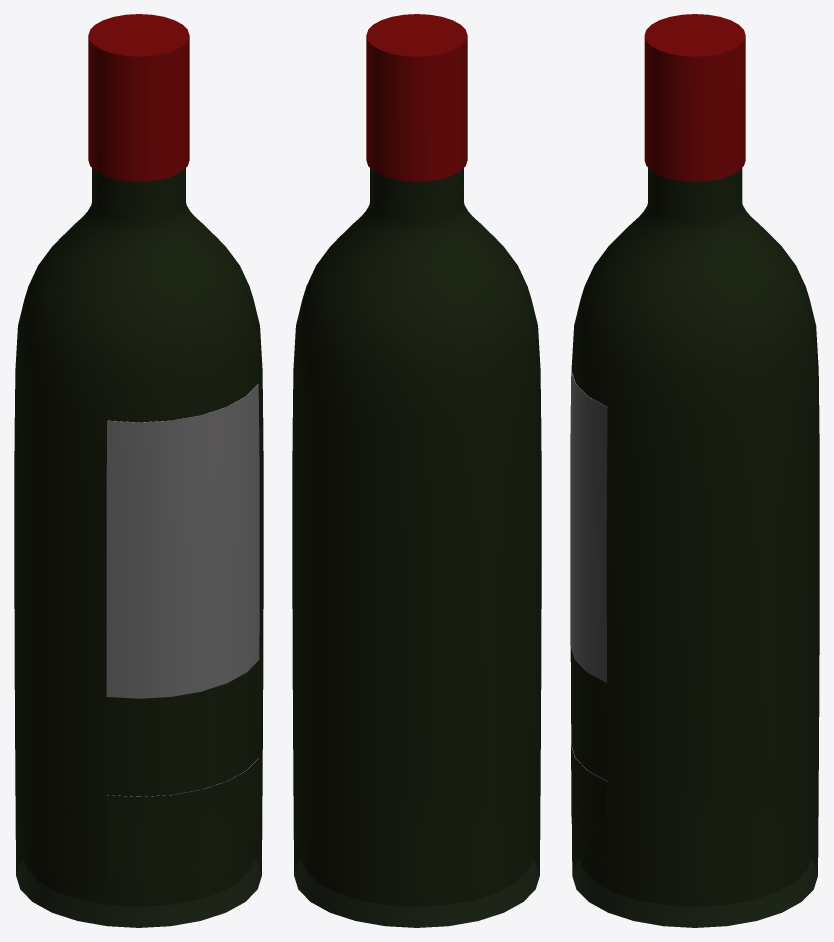
File: bottle_wine.glb
The picture shows the model from 3 angles, left to right: view 1: azimuth 30°, elevation 25°; view 2: azimuth 150°, elevation 25°; view 3: azimuth 270°, elevation 25°; orthographic projection.
Parts seen in each view (by area): view 1: Mesh_Botella_0, Mesh_Etiqueta_0, Mesh_Cosa de arriba_0; view 2: Mesh_Botella_0, Mesh_Cosa de arriba_0; view 3: Mesh_Botella_0, Mesh_Cosa de arriba_0, Mesh_Etiqueta_0.
Part boxes in pixels (box(x1,y1,x2,y2)): Mesh_Botella_0: box(14, 168, 263, 927); Mesh_Etiqueta_0: box(106, 384, 259, 698); Mesh_Cosa de arriba_0: box(88, 14, 189, 181); Mesh_Botella_0: box(292, 168, 541, 927); Mesh_Cosa de arriba_0: box(366, 14, 467, 181); Mesh_Botella_0: box(570, 168, 819, 927); Mesh_Cosa de arriba_0: box(644, 14, 745, 181); Mesh_Etiqueta_0: box(570, 371, 607, 682).
Size of the model in its own units: 502 by 1870 by 503.
Materials: 5 (1 with a texture image).
